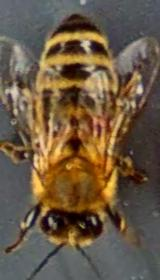varroa_mite: (81, 111, 114, 136)
